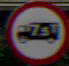Heavy Vehicles: (4, 4, 63, 55)
